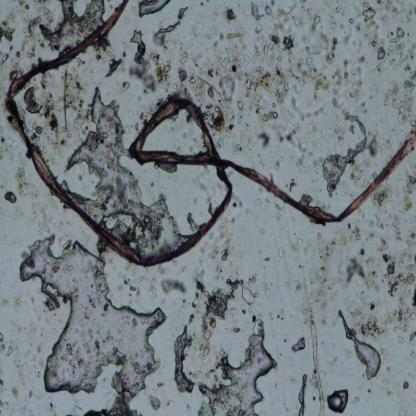Air bubble: (20, 236, 166, 396), (72, 80, 183, 242), (197, 334, 274, 414), (38, 0, 105, 54), (338, 310, 382, 381), (323, 130, 368, 196), (173, 324, 195, 392), (138, 0, 170, 19), (327, 388, 349, 412), (130, 28, 146, 60), (184, 212, 200, 234), (291, 336, 305, 354)
Background material: (290, 0, 364, 104), (226, 28, 293, 120), (347, 1, 416, 72), (194, 274, 244, 358), (381, 264, 416, 347), (304, 230, 340, 307), (375, 213, 416, 263), (340, 244, 380, 295), (384, 70, 416, 128), (274, 121, 311, 168), (151, 7, 188, 50), (204, 84, 226, 150), (350, 296, 384, 336), (188, 268, 210, 324), (225, 117, 255, 156), (82, 396, 141, 415), (20, 12, 42, 58), (128, 61, 156, 95), (124, 270, 159, 297), (44, 94, 60, 153), (170, 54, 191, 96), (149, 50, 173, 86), (62, 68, 74, 135), (401, 167, 416, 213), (192, 56, 222, 79), (0, 124, 18, 162), (15, 164, 34, 197), (344, 108, 366, 136), (161, 274, 187, 296), (72, 106, 89, 137), (250, 2, 272, 25), (352, 160, 370, 188), (92, 38, 113, 62), (239, 282, 259, 307), (214, 220, 236, 241), (338, 222, 361, 242), (31, 341, 43, 379), (373, 184, 391, 208), (297, 374, 307, 416), (211, 244, 231, 264), (104, 58, 123, 79), (0, 19, 15, 44), (154, 162, 178, 176), (74, 74, 84, 107), (0, 332, 13, 357), (8, 61, 26, 79), (30, 120, 42, 145), (368, 131, 379, 158), (220, 6, 235, 24), (134, 113, 148, 132), (257, 130, 271, 148), (274, 204, 286, 223), (149, 395, 162, 412), (232, 192, 244, 209), (5, 189, 17, 204), (0, 51, 10, 66), (301, 192, 311, 206), (0, 398, 10, 412), (18, 0, 30, 11), (59, 137, 69, 150), (294, 282, 303, 296), (350, 394, 360, 406), (278, 246, 286, 261), (14, 293, 20, 312), (263, 282, 270, 298), (278, 306, 285, 322), (121, 82, 131, 92), (402, 379, 410, 390), (231, 324, 241, 332), (410, 348, 416, 360), (13, 387, 19, 399), (157, 381, 165, 388), (122, 50, 126, 58)
Cellulose filter fibre: (304, 307, 325, 415)
Cotton: (8, 0, 416, 268)
Diatom: (23, 86, 43, 113)
